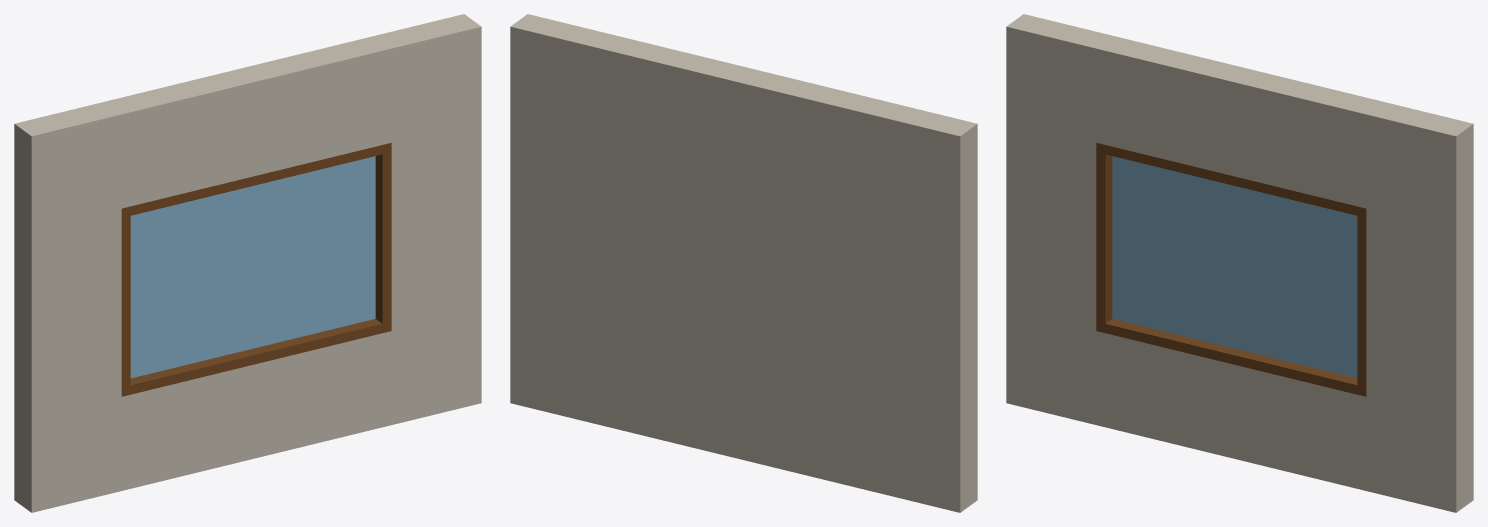
File: window_wall.glb
3 renders of one model, left to right at view 1: azimuth 30°, elevation 25°; view 2: azimuth 150°, elevation 25°; view 3: azimuth 330°, elevation 25°, orthographic.
Parts seen in each view (by area): view 1: wall; view 2: wall; view 3: wall.
Part boxes in pixels (x1,y1,x2,y2): wall: [14, 14, 481, 512]; wall: [510, 14, 977, 512]; wall: [1006, 14, 1473, 512].
Size of the model in its own units: 3 by 2.4 by 0.2.
